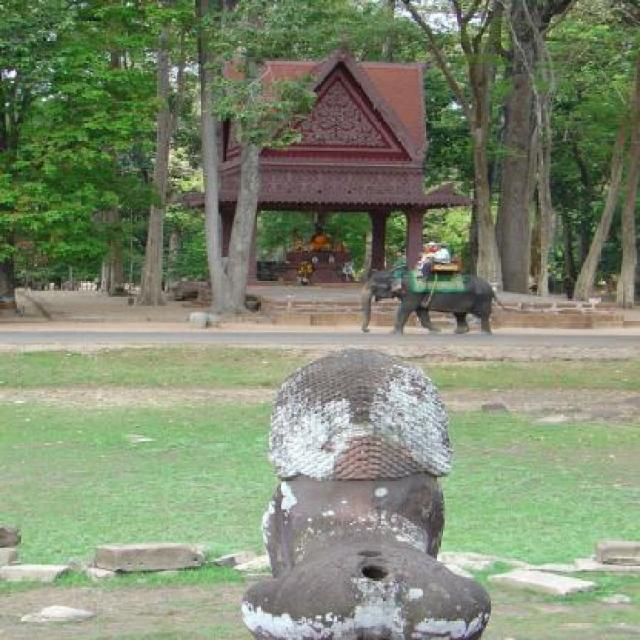Elephant: (362, 265, 490, 337)
